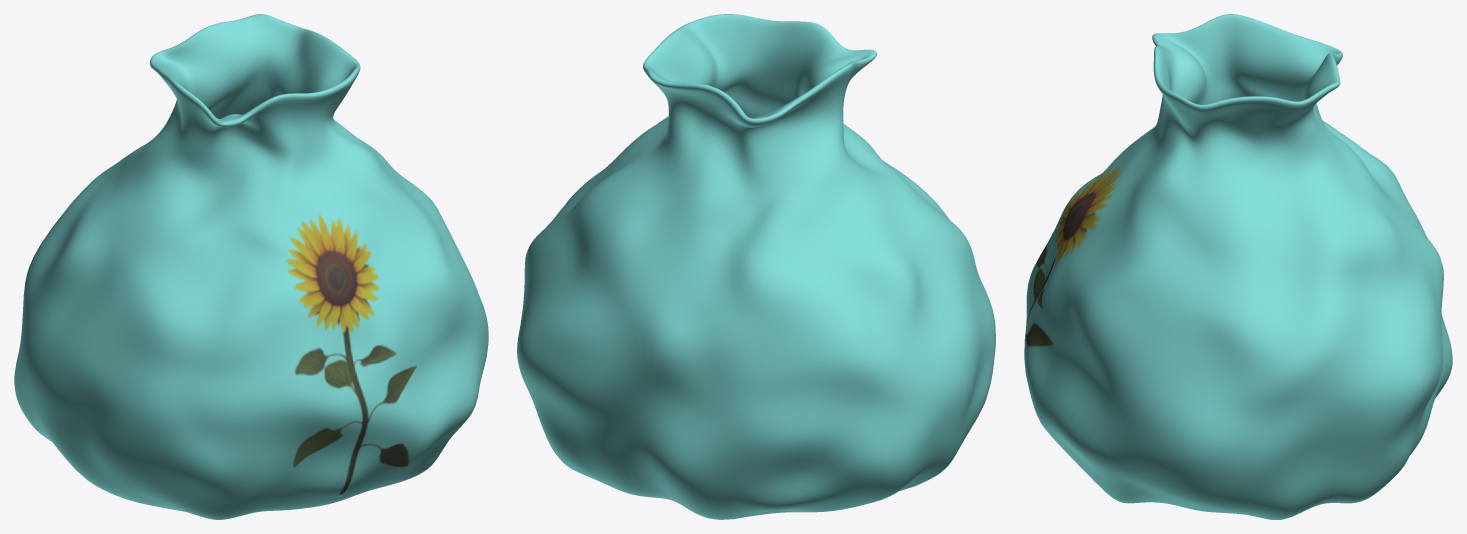
File: sunflower_seed.fbx
3 renders of one model, left to right at view 1: azimuth 30°, elevation 25°; view 2: azimuth 150°, elevation 25°; view 3: azimuth 270°, elevation 25°, orthographic. The views are drawn at different scales.
Visible parts, largest first — view 1: zak; view 2: zak; view 3: zak.
Part boxes in pixels (box(x1,y1,x2,y2)): zak: box(14, 14, 488, 519); zak: box(517, 14, 995, 519); zak: box(1024, 14, 1452, 519).
Bounding box in the file's own units: 196 × 183 × 175.
1 material, 1 textured.
